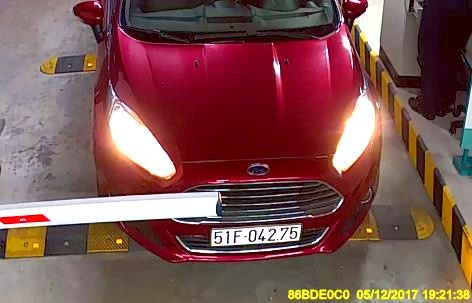plate: (209, 224, 302, 248)
